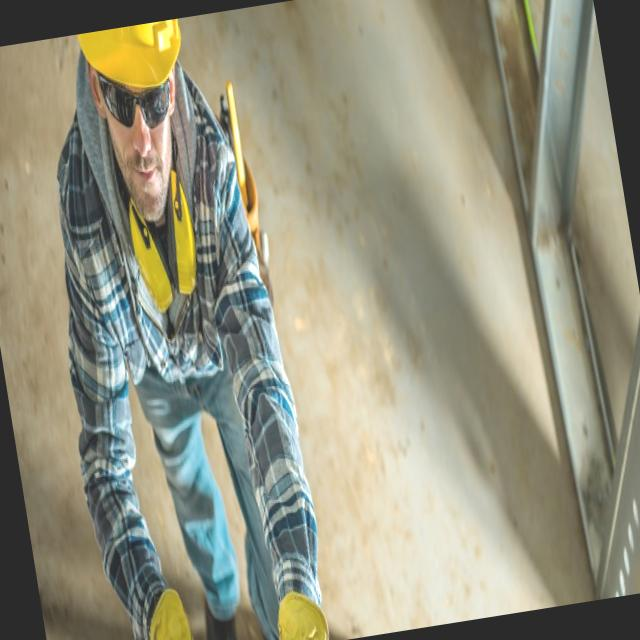goggles: (85, 58, 184, 156)
helmet: (71, 18, 200, 130)
no-vest: (86, 134, 252, 393)
